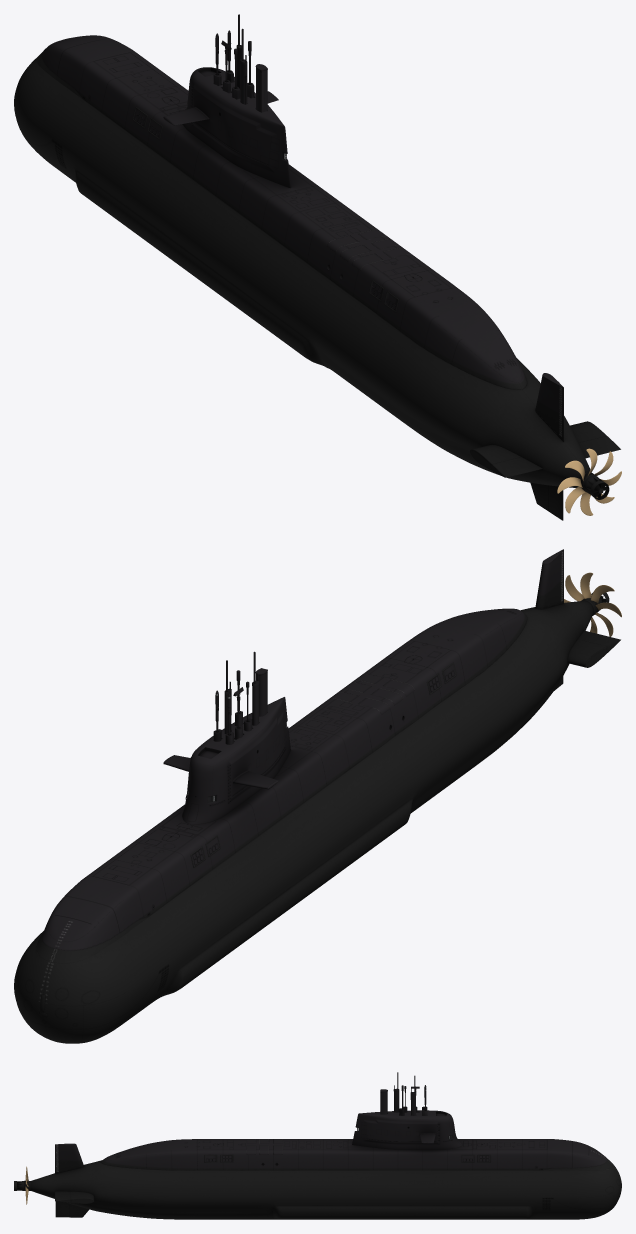
3 renders of one model, top to bottom at view 1: azimuth 30°, elevation 25°; view 2: azimuth 150°, elevation 25°; view 3: azimuth 270°, elevation 25°, orthographic. The views are drawn at different scales.
Visible parts, largest first — view 1: Kss3_MainHull; view 2: Kss3_MainHull; view 3: Kss3_MainHull.
Boxes of the visible parts, x1,y1,x2,y2 form: Kss3_MainHull: (14,14,621,520); Kss3_MainHull: (14,549,621,1043); Kss3_MainHull: (14,1072,621,1219).
Size of the model in its own units: 10.19 by 22.11 by 85.11.
Materials: 3 (3 with a texture image).
